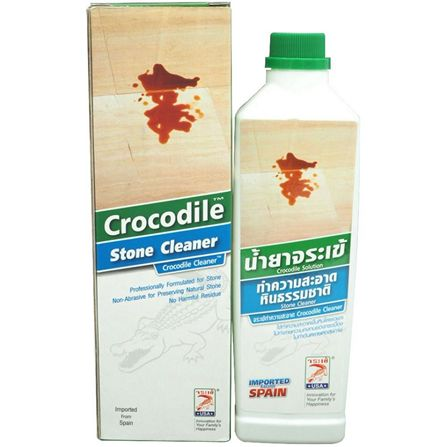Cleaning_solution: (229, 29, 361, 447)
